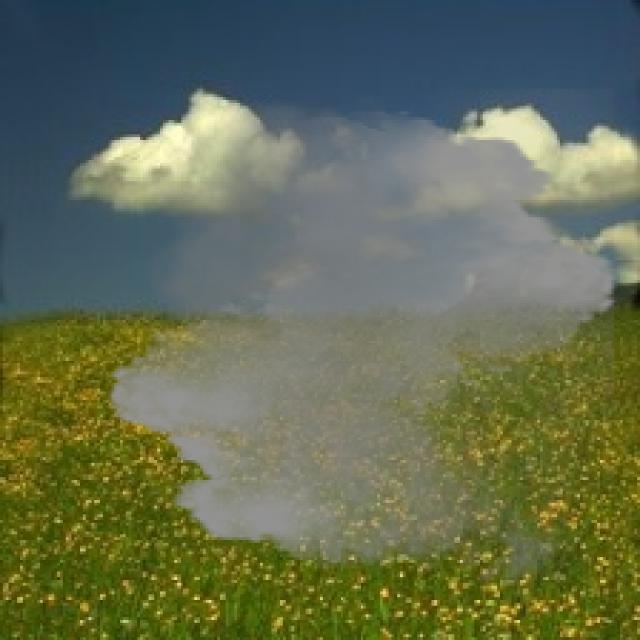Smoke: (91, 88, 634, 603)
